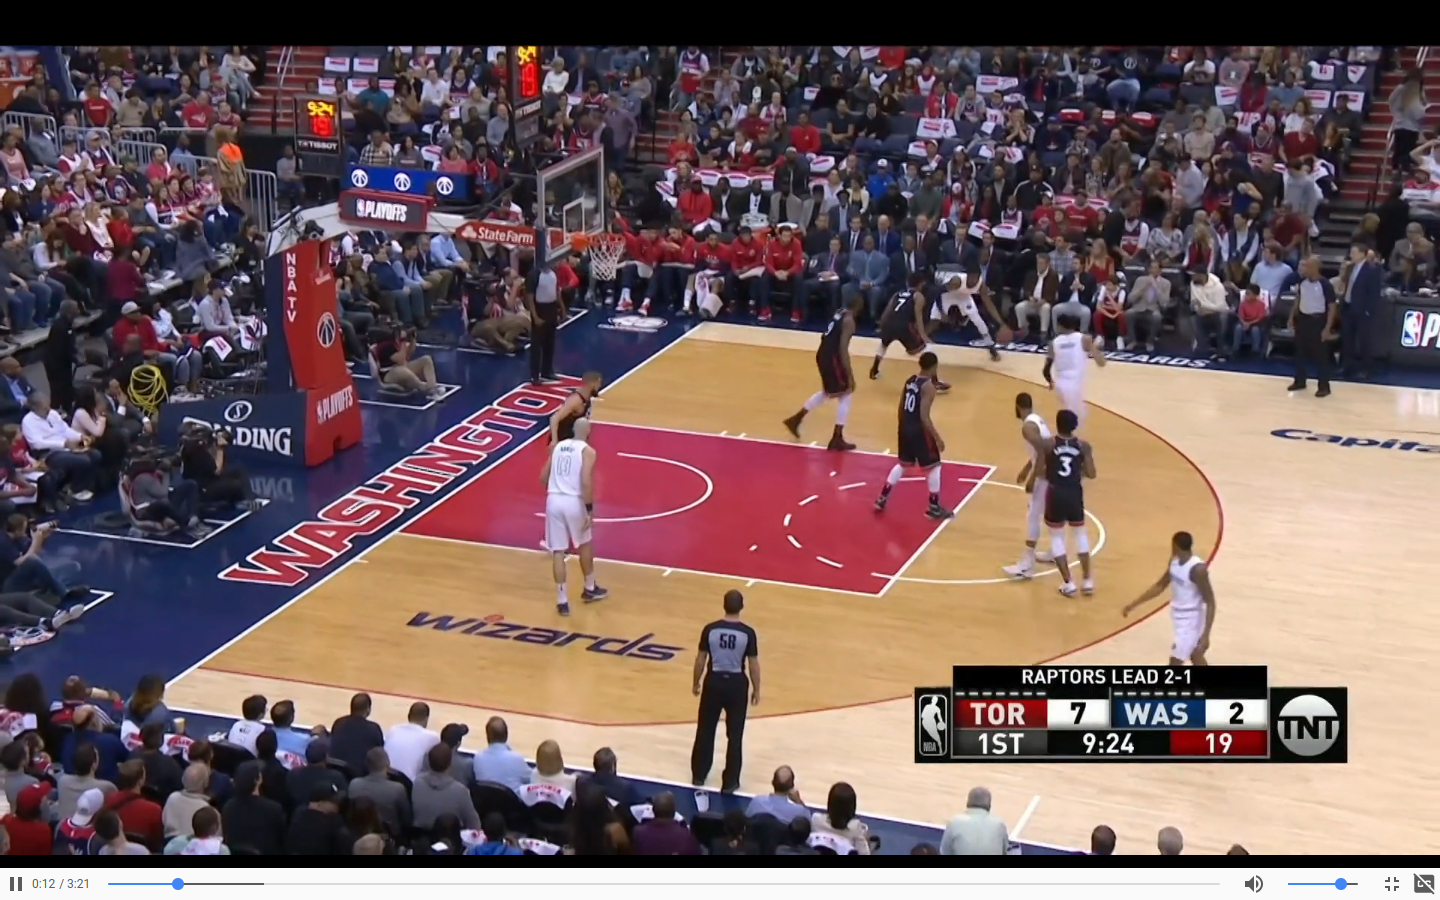basketball: (990, 317, 1018, 349)
basketball player: (1121, 522, 1225, 660), (876, 349, 958, 522), (784, 292, 870, 454), (545, 416, 601, 620), (999, 389, 1053, 589), (1042, 409, 1096, 605), (932, 251, 1007, 357), (1039, 308, 1108, 416), (876, 271, 938, 388), (548, 369, 612, 437)
referee: (675, 583, 762, 797), (1282, 256, 1339, 400), (522, 259, 572, 382)
